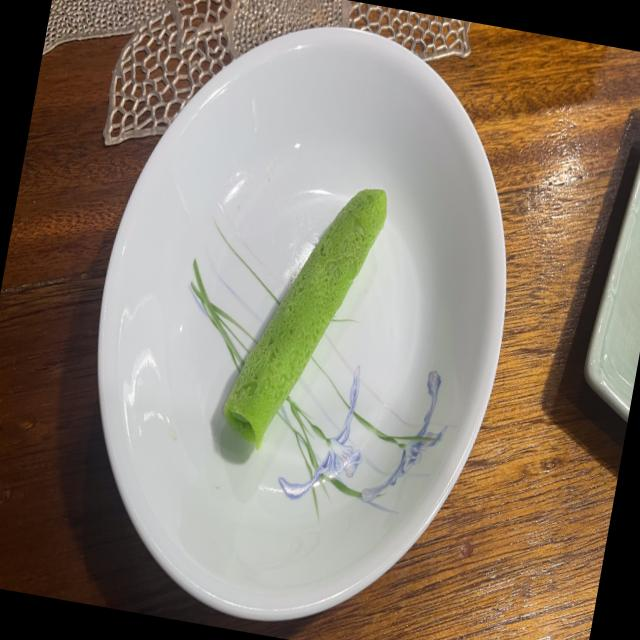Kuih-Ketayap: (223, 188, 387, 449)
